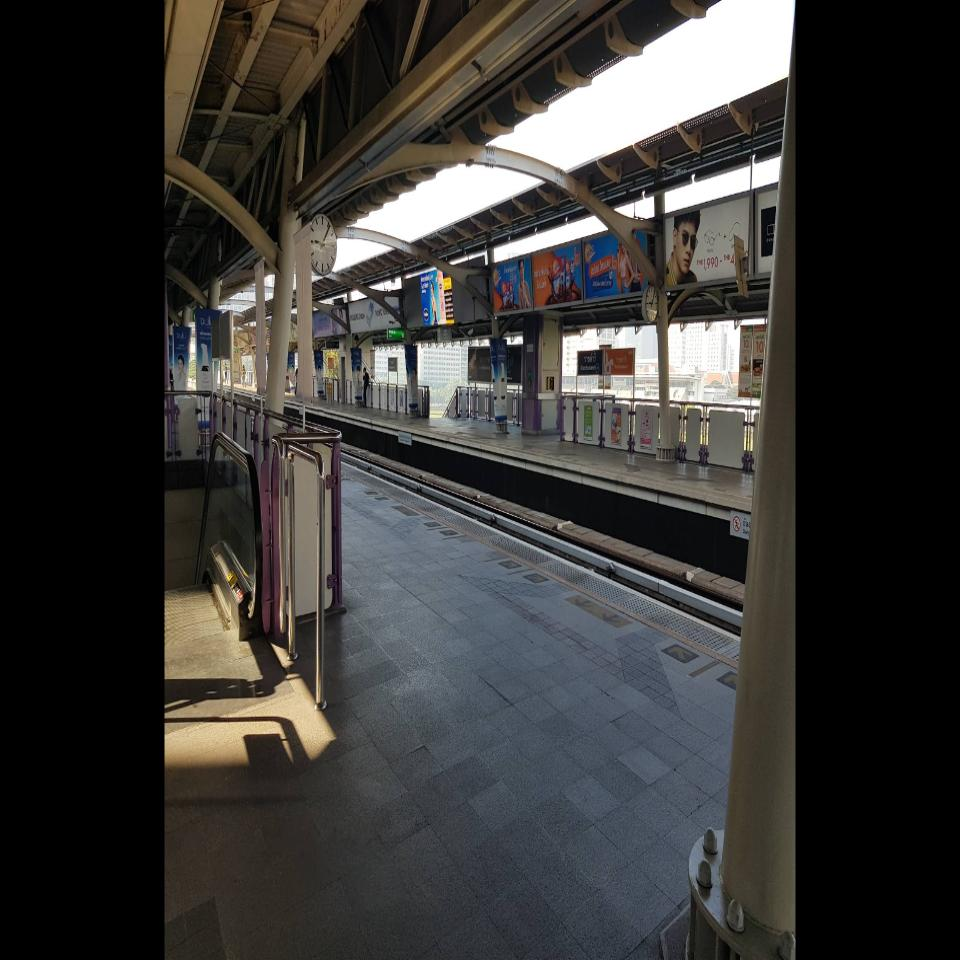signage: (604, 346, 634, 376), (577, 348, 604, 377), (388, 357, 398, 372)
